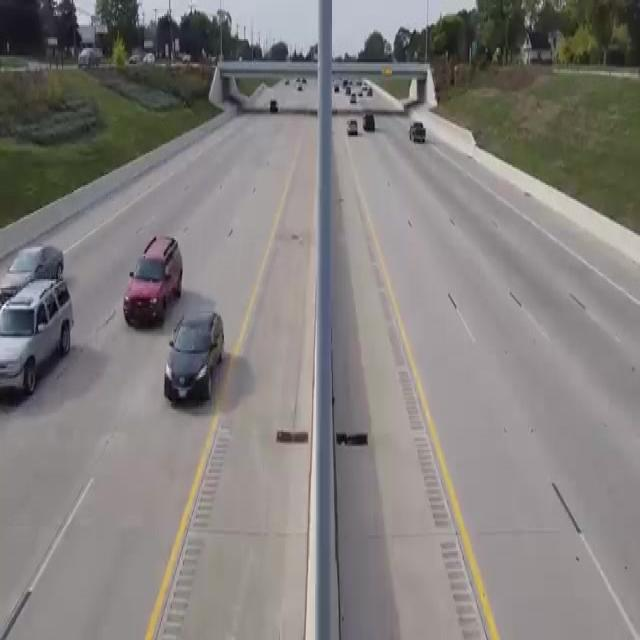car: (3, 277, 72, 402), (117, 236, 183, 328), (167, 304, 218, 416), (0, 226, 58, 292), (406, 118, 443, 150), (360, 113, 383, 144), (344, 119, 362, 141)
